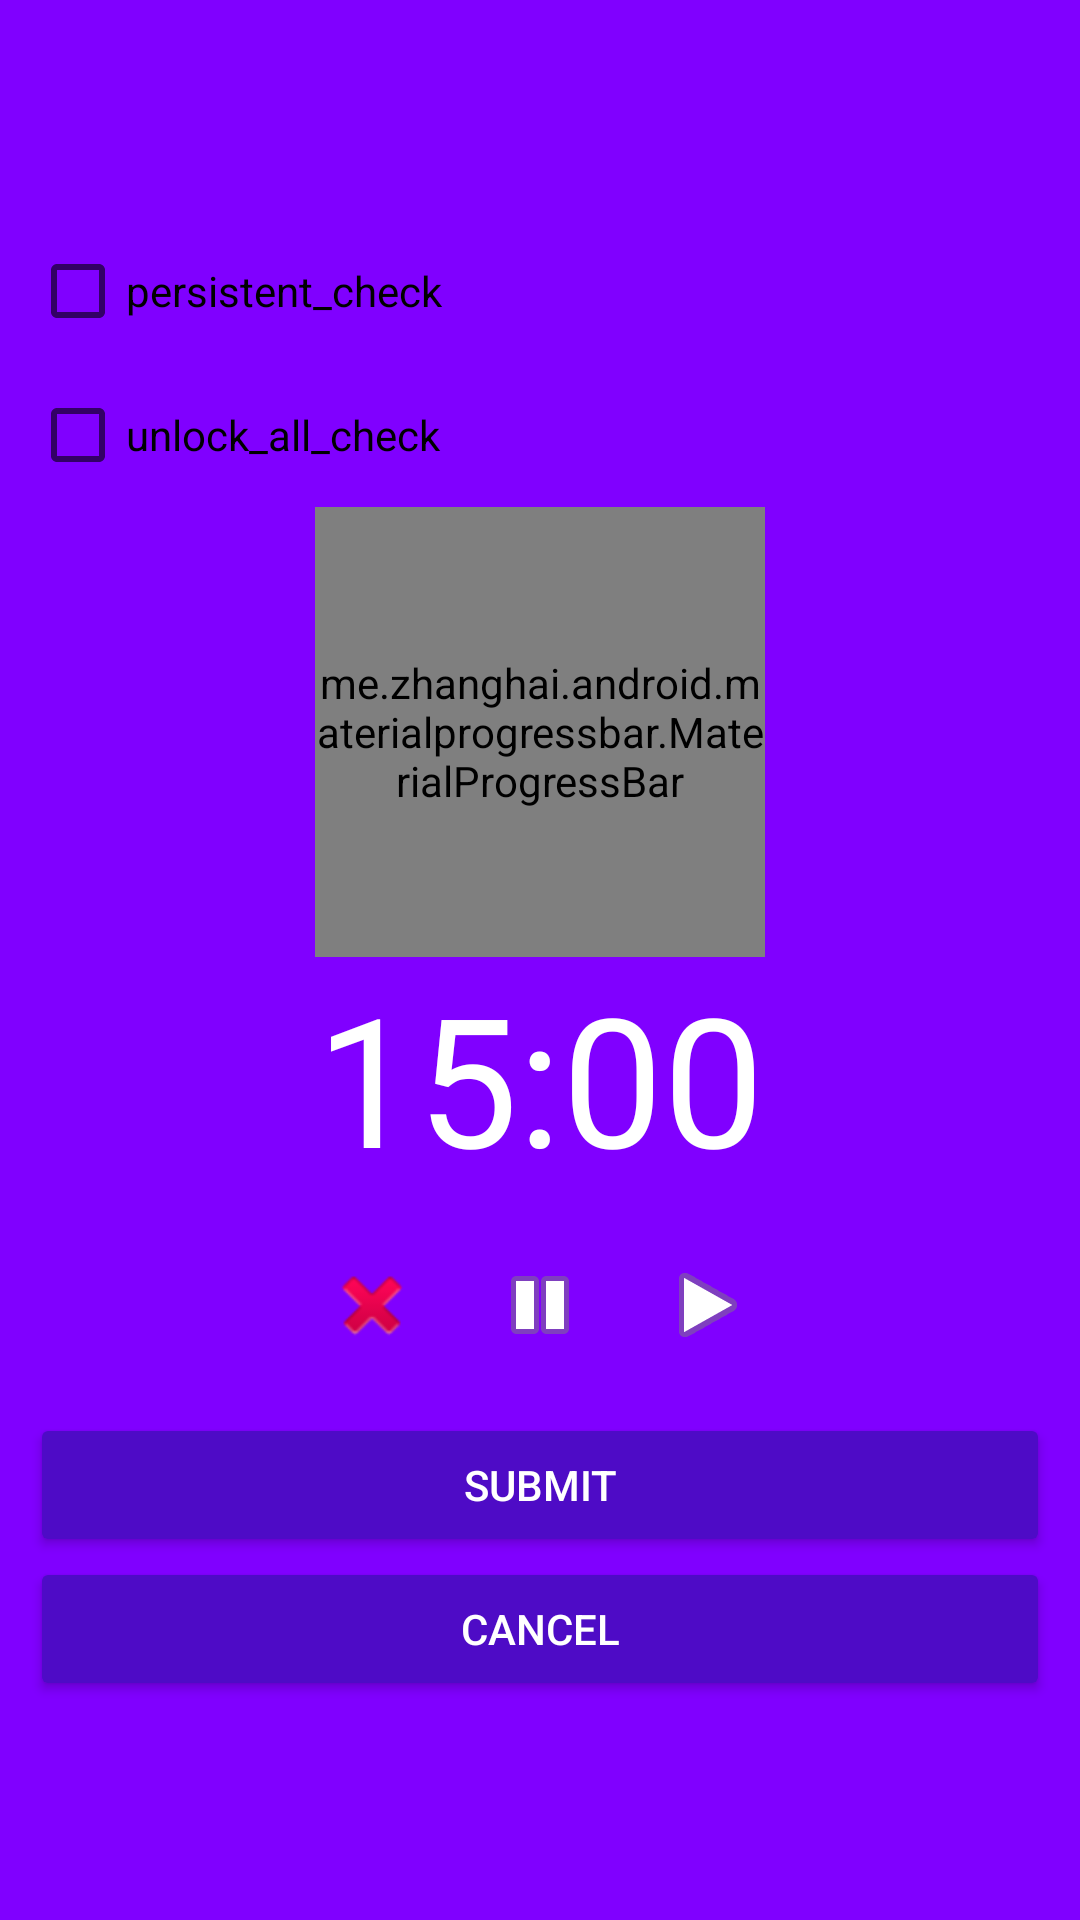

Named icons in this screenshot (1080*1920) and their centers, (x,y):
delete: (372,1305)
pause: (540,1305)
play: (708,1305)
